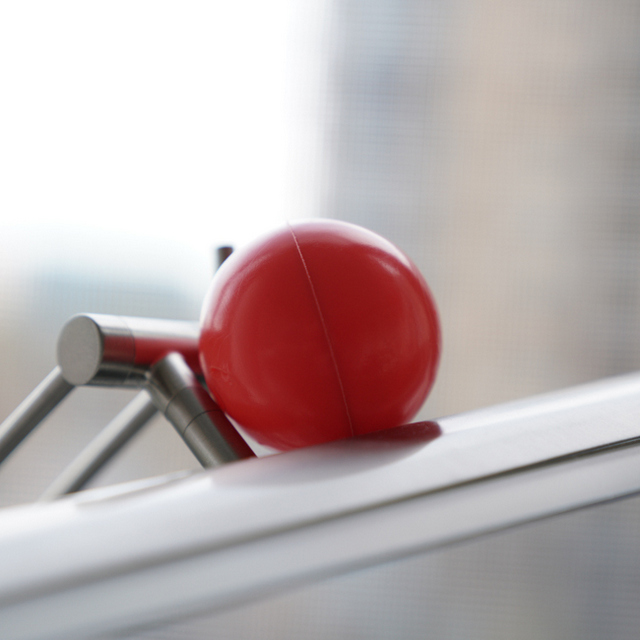Ball: (204, 217, 438, 442)
